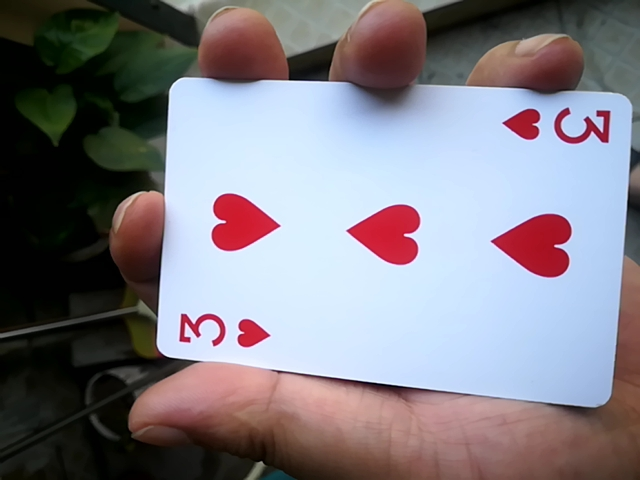hx 3: (143, 81, 635, 400)
